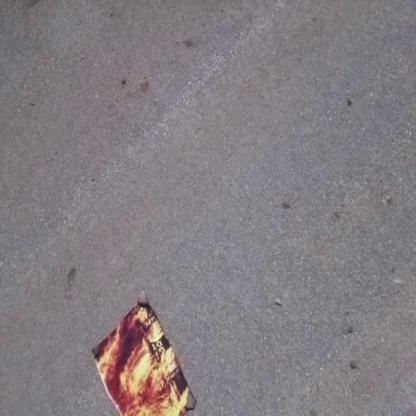fire-poster: (90, 290, 197, 415)
